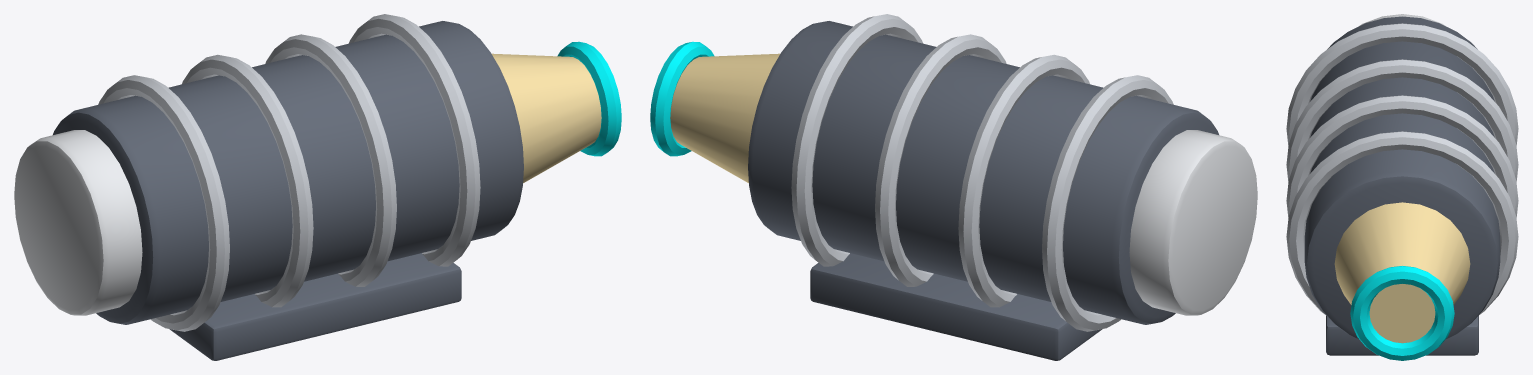
The model's file is neutron_emitter.glb.
3 views of the same model, side by side, from view 1: azimuth 30°, elevation 25°; view 2: azimuth 150°, elevation 25°; view 3: azimuth 270°, elevation 25° (orthographic). The views are drawn at different scales.
Parts seen in each view (by area): view 1: Cylinder; view 2: Cylinder; view 3: Cylinder.
Part boxes in pixels (box(x1,y1,x2,y2)): Cylinder: box(14, 14, 621, 360); Cylinder: box(650, 14, 1257, 360); Cylinder: box(1286, 14, 1518, 360).
Bounding box in the file's own units: 2.59 × 1.14 × 1.09.
